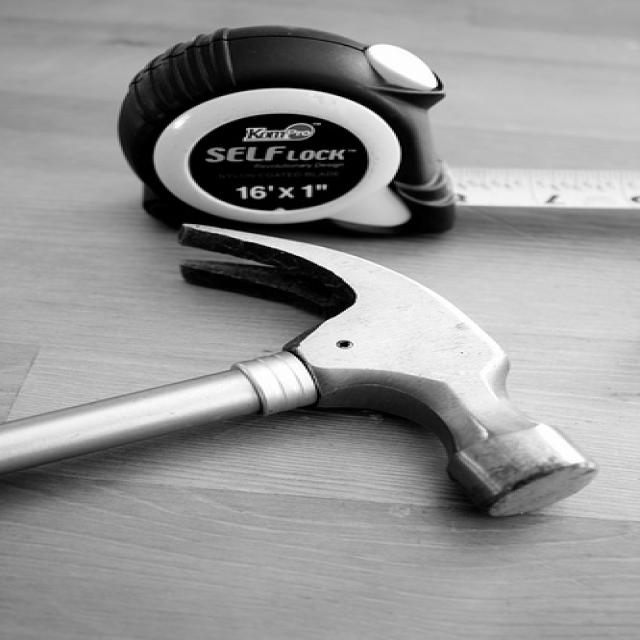hammer: (0, 214, 577, 540)
